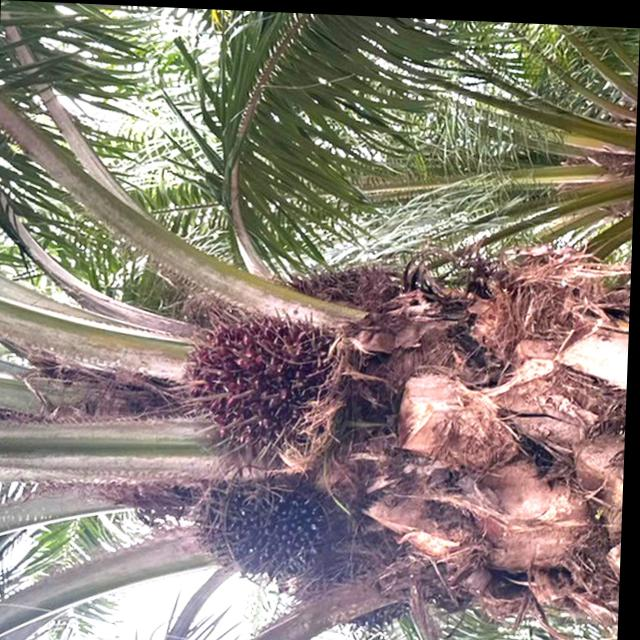ripe: (174, 304, 325, 439), (195, 466, 336, 575)
